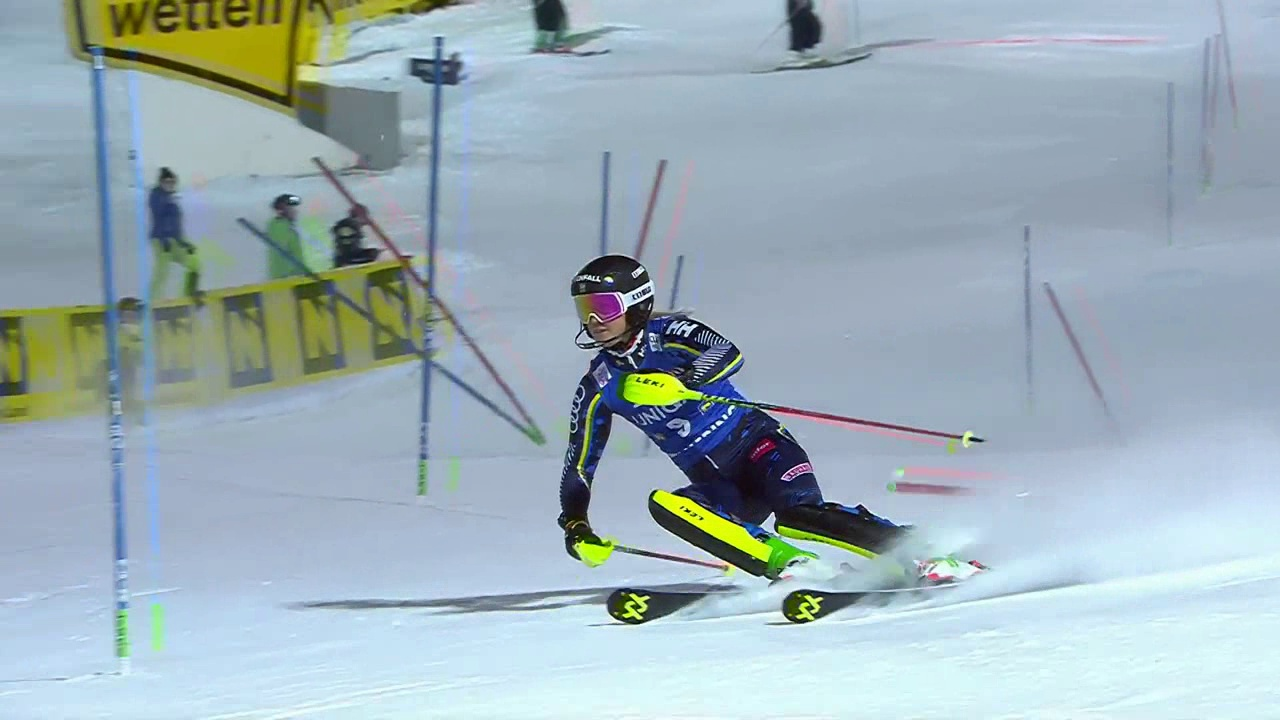interwetten: (96, 1, 299, 84)
